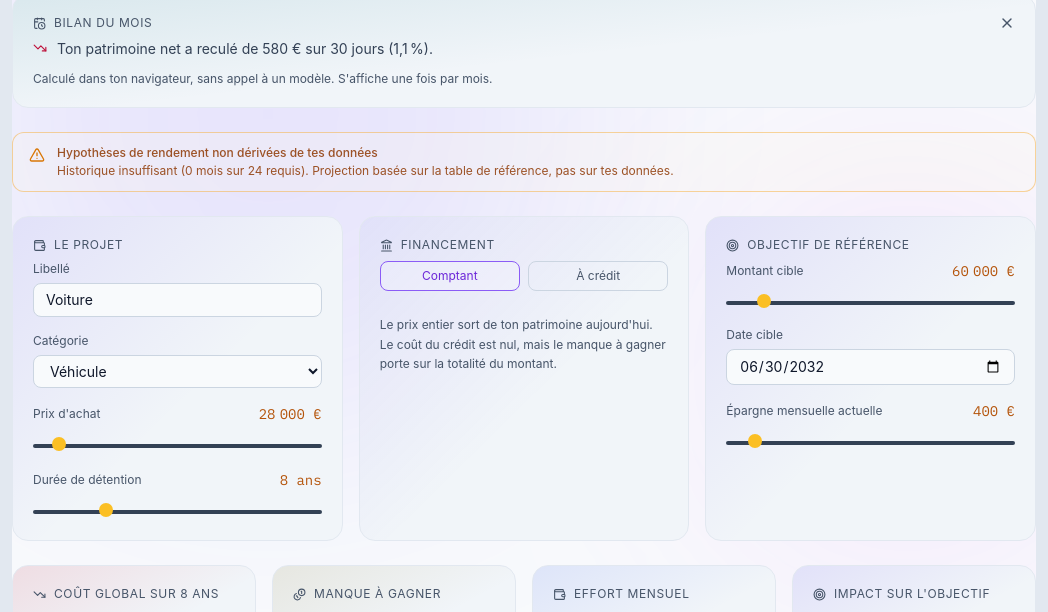
Projet › fait apparaître le TAEG et la mensualité une fois à crédit
The width and height of the screenshot is (1048, 612).
Click the button "À crédit" at (598, 276), box [528,261,668,291]
(page scrolled)
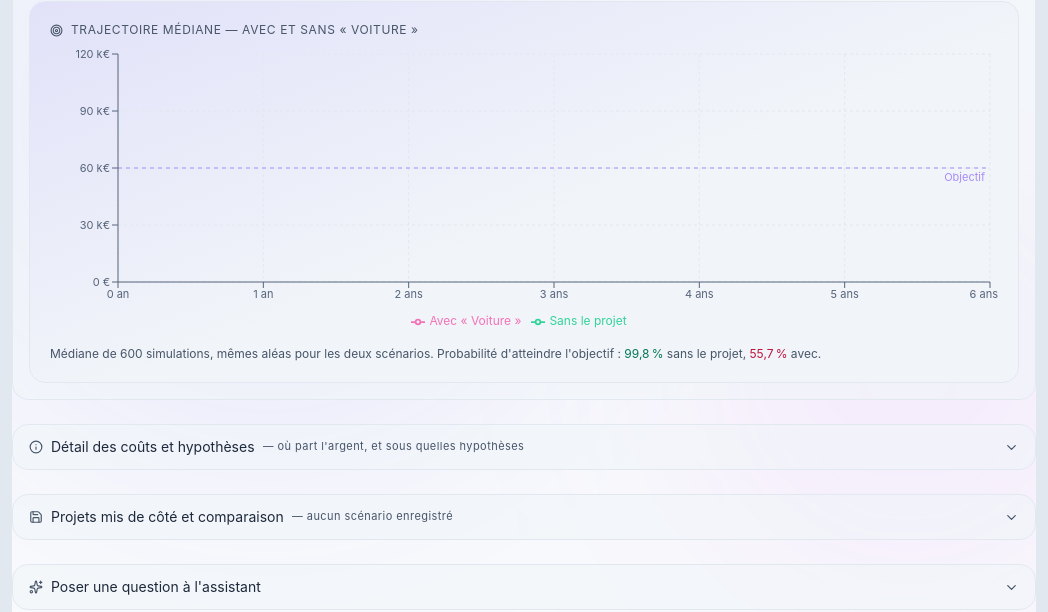
Click the button "Détail des coûts" at (524, 447), box [13,425,1035,469]
(page scrolled)
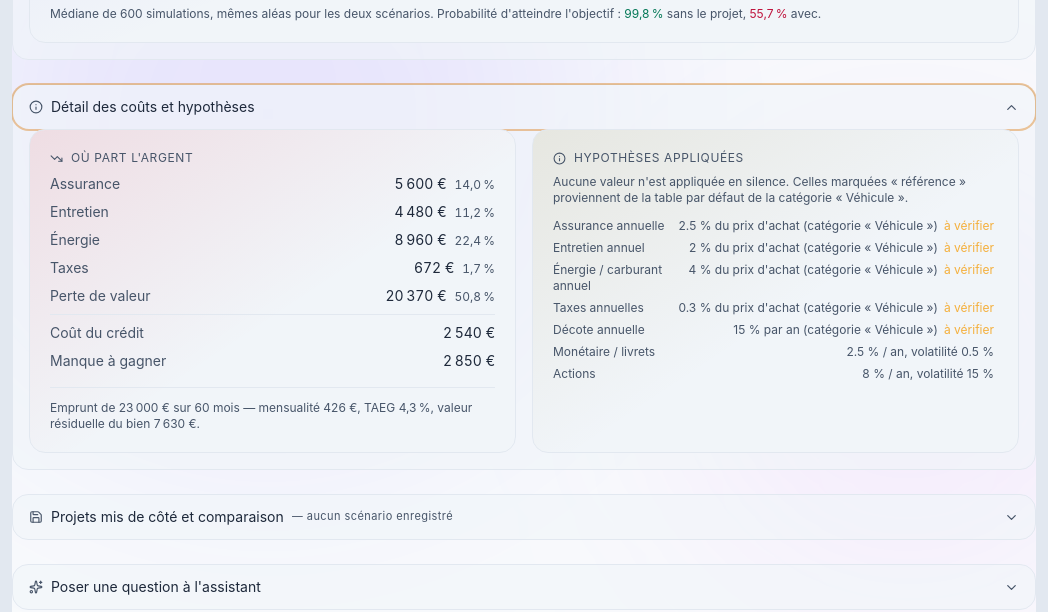
Now the text "TAEG" is shown, box [357,400,399,415]
Now the text "mensualité" is shown, box [210,400,323,415]
Now the text "Coût du crédit" is shown, box [50,323,144,343]
